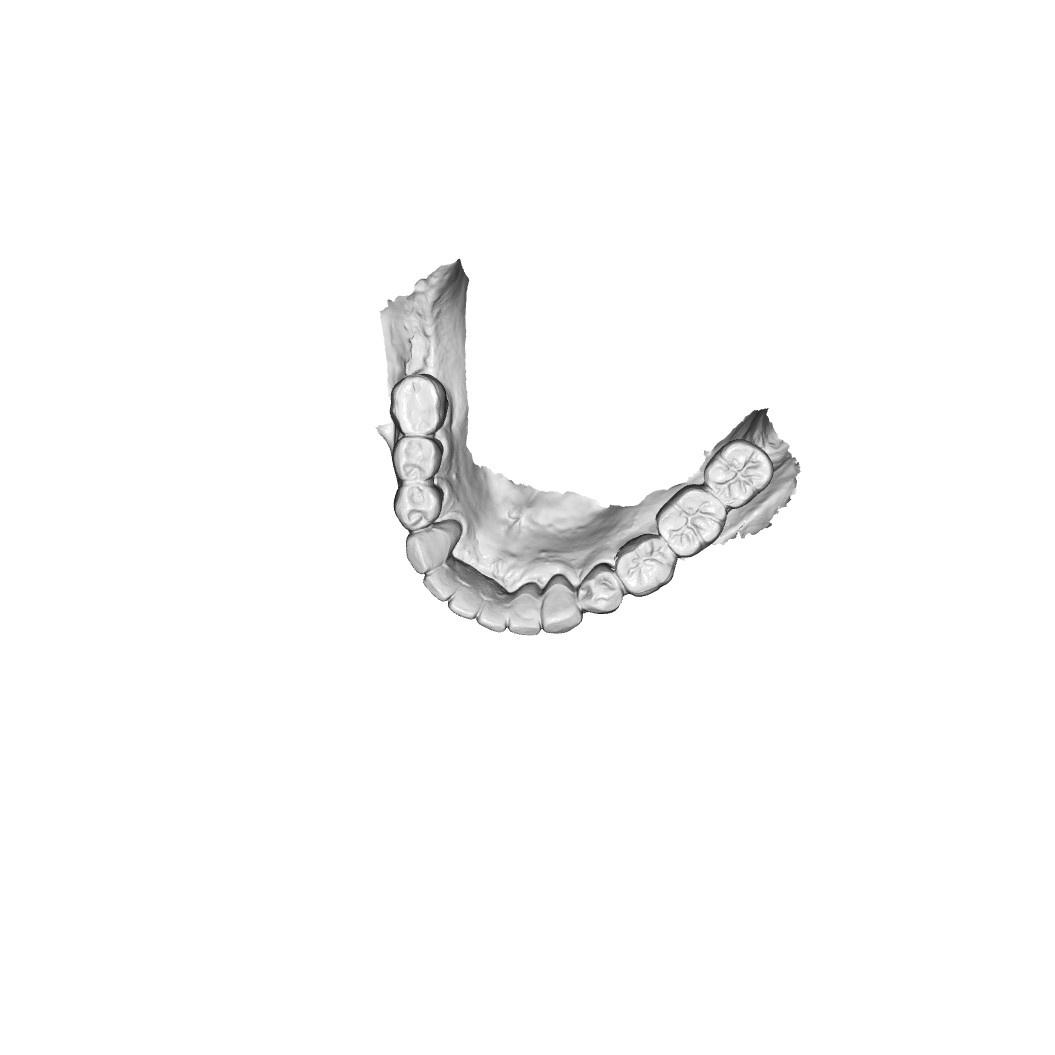canine: (404, 519, 459, 575), (540, 577, 584, 636)
incisor: (505, 587, 548, 638), (472, 588, 513, 635), (418, 566, 462, 605), (445, 579, 480, 625)
molar: (655, 483, 727, 561), (699, 437, 775, 510), (389, 372, 454, 440)
premolar: (611, 533, 681, 600), (388, 437, 447, 484), (394, 481, 449, 531), (576, 564, 626, 617)
